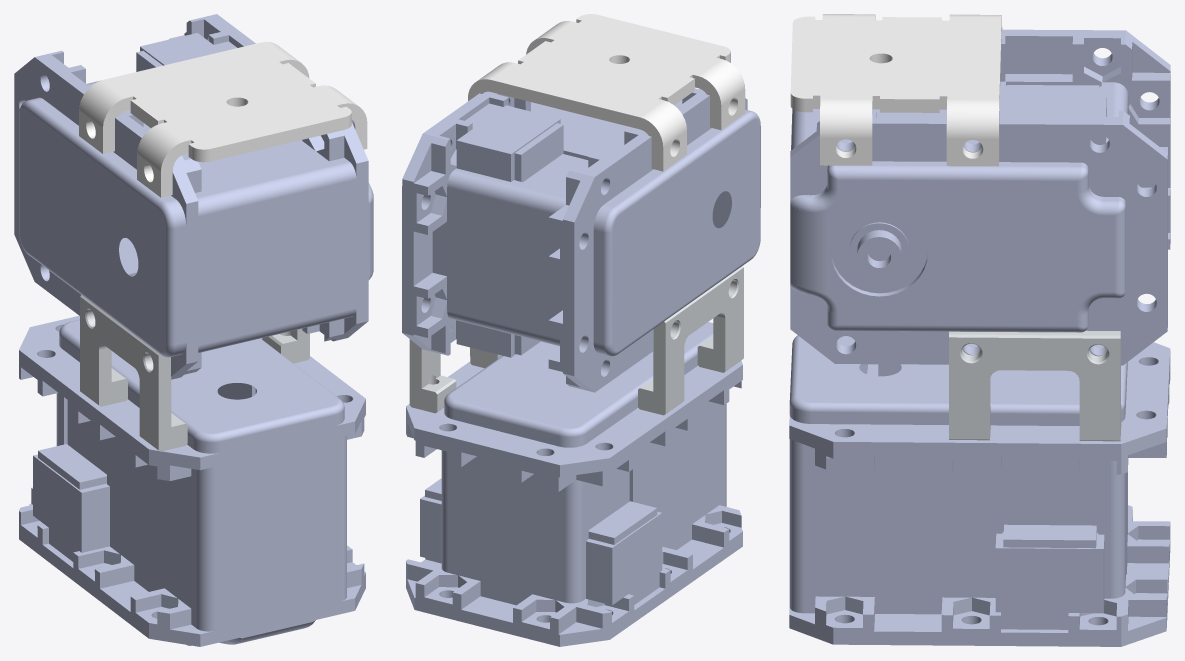
3 renders of one model, left to right at view 1: azimuth 30°, elevation 25°; view 2: azimuth 150°, elevation 25°; view 3: azimuth 270°, elevation 25°, orthographic. The views are drawn at different scales.
Parts seen in each view (by area): view 1: NONE_DC_Shell, Edge_Flange1_DC_Shell, Imported1_DC_Shell; view 2: NONE_DC_Shell, Edge_Flange1_DC_Shell, Imported1_DC_Shell; view 3: NONE_DC_Shell, Edge_Flange1_DC_Shell, Imported1_DC_Shell.
Boxes of the visible parts, <box> form: NONE_DC_Shell: <box>14,14,373,646</box>; Edge_Flange1_DC_Shell: <box>79,41,367,197</box>; Imported1_DC_Shell: <box>80,295,309,451</box>; NONE_DC_Shell: <box>402,88,760,646</box>; Edge_Flange1_DC_Shell: <box>468,14,745,171</box>; Imported1_DC_Shell: <box>409,266,743,415</box>; NONE_DC_Shell: <box>789,29,1170,646</box>; Edge_Flange1_DC_Shell: <box>790,14,1002,166</box>; Imported1_DC_Shell: <box>949,330,1121,441</box>.
Bounding box in the file's own units: 37.19 × 82.75 × 51.14.
